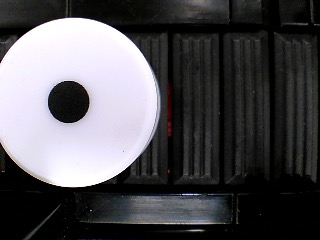BOHO: (1, 17, 158, 188)
